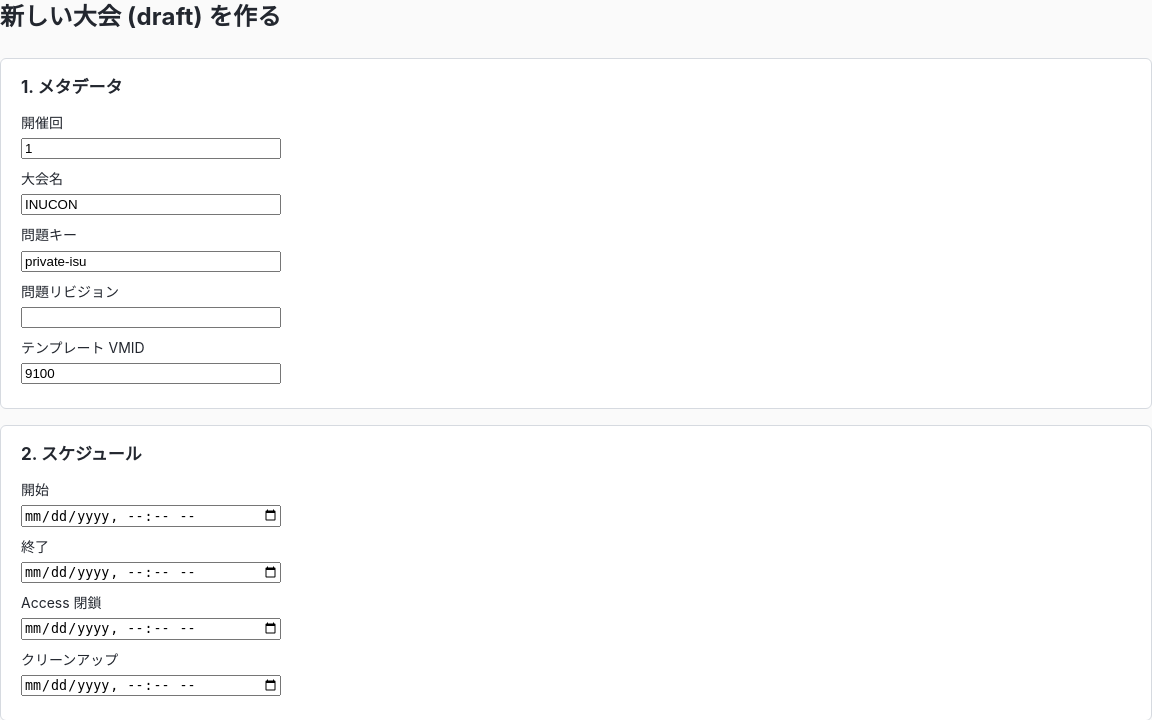
it: ContestSetup › scheduledEndAt を入れて accessClosesAt を触らないと、accessClosesAt が自動的に end と同じ値になる
Step 1. Type "2026-08-01T10:00" into the field labelled "開始" → (151, 516), box [21,505,281,527]
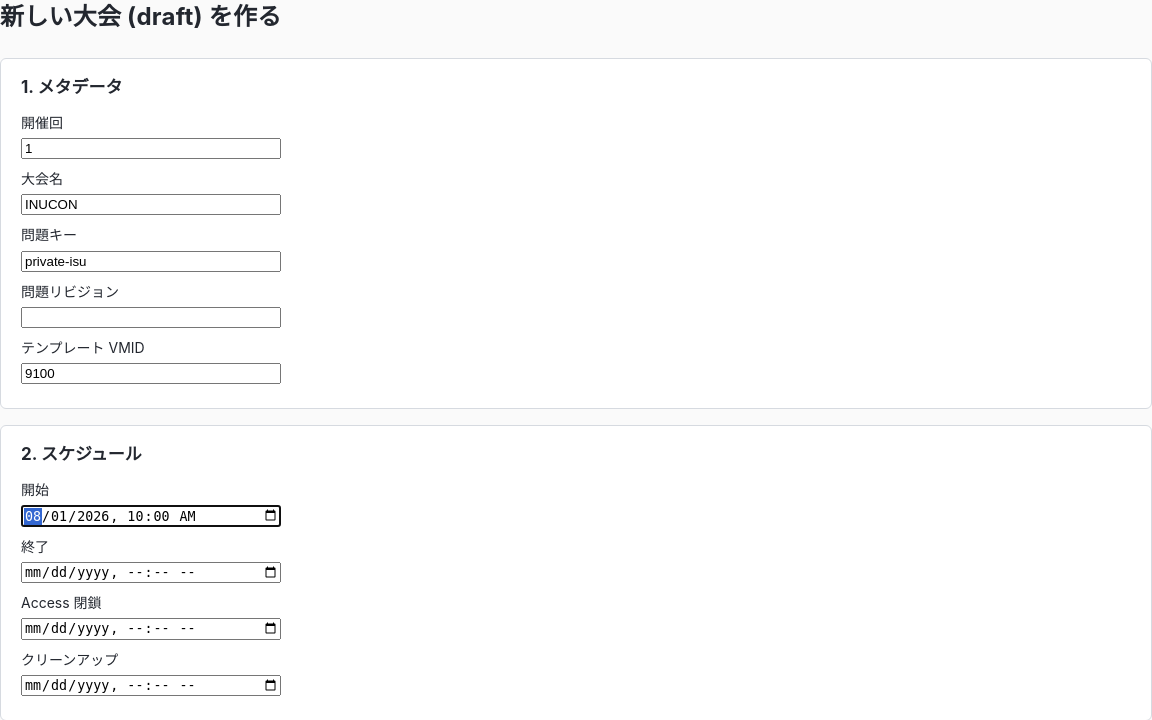
Step 2. Type "2026-08-01T18:00" into the field labelled "終了" → (151, 573), box [21,562,281,583]
(page scrolled)
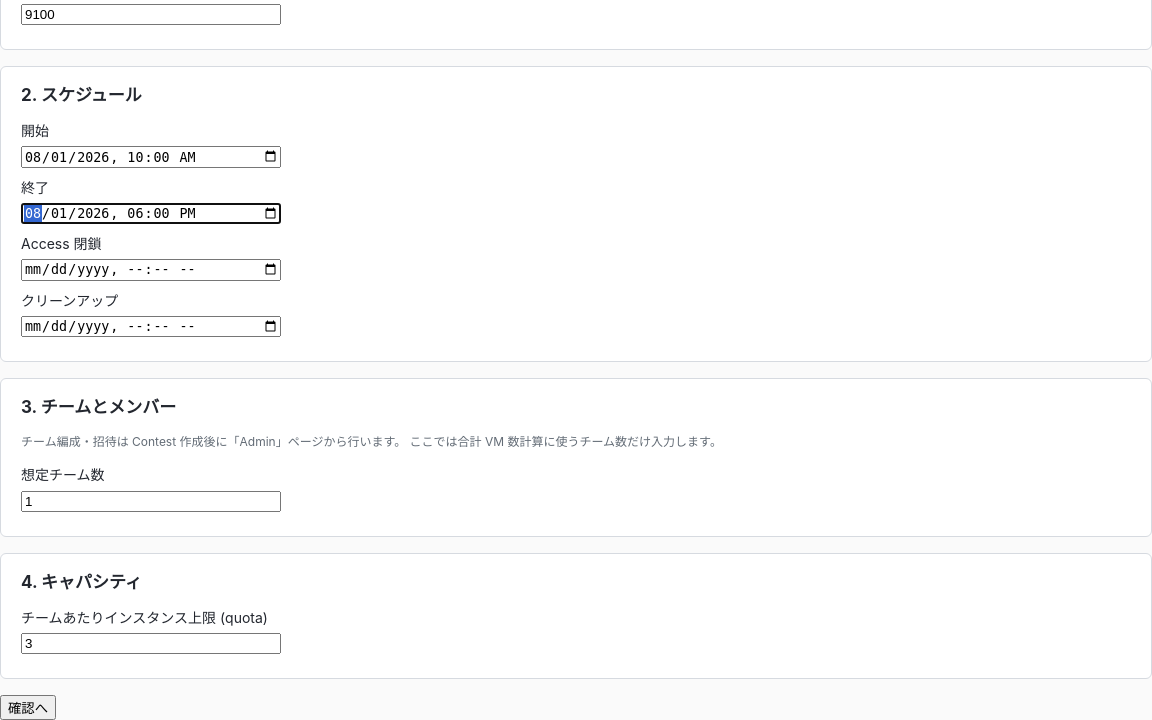
accessCloses は触らない
Step 3. Click the button "確認へ" → (28, 708), box [0,695,56,719]
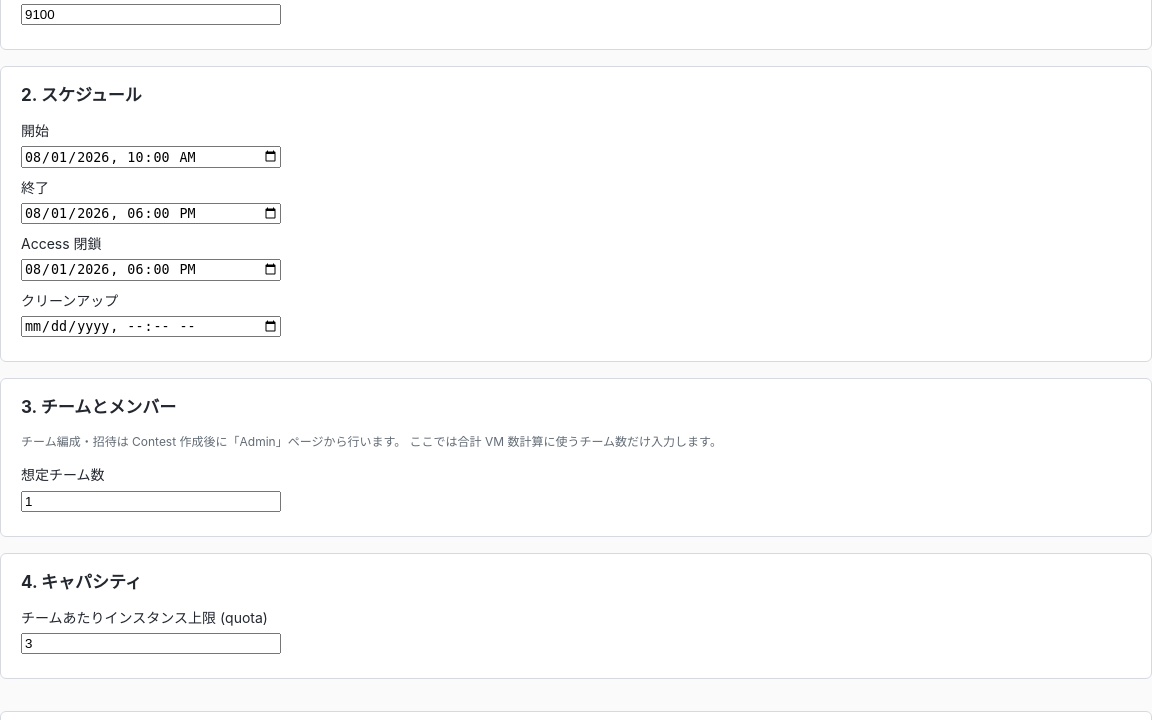
Expected: the field labelled "Access 閉鎖" holds "2026-08-01T18:00", [21,259,281,281]
